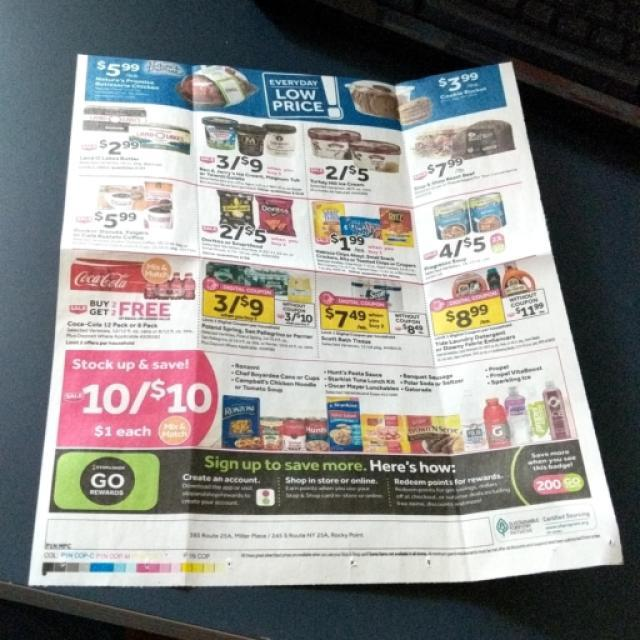document: (31, 55, 621, 585)
